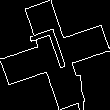L_S: (32, 26, 78, 84)
